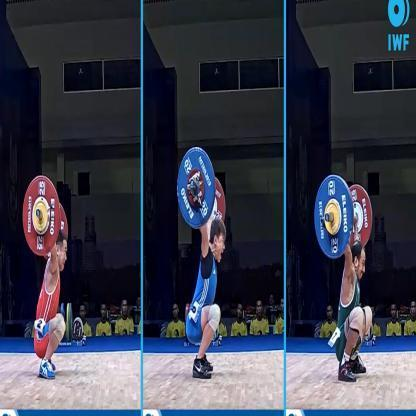barbell: (312, 172, 374, 260), (177, 146, 227, 230), (20, 174, 69, 258)
